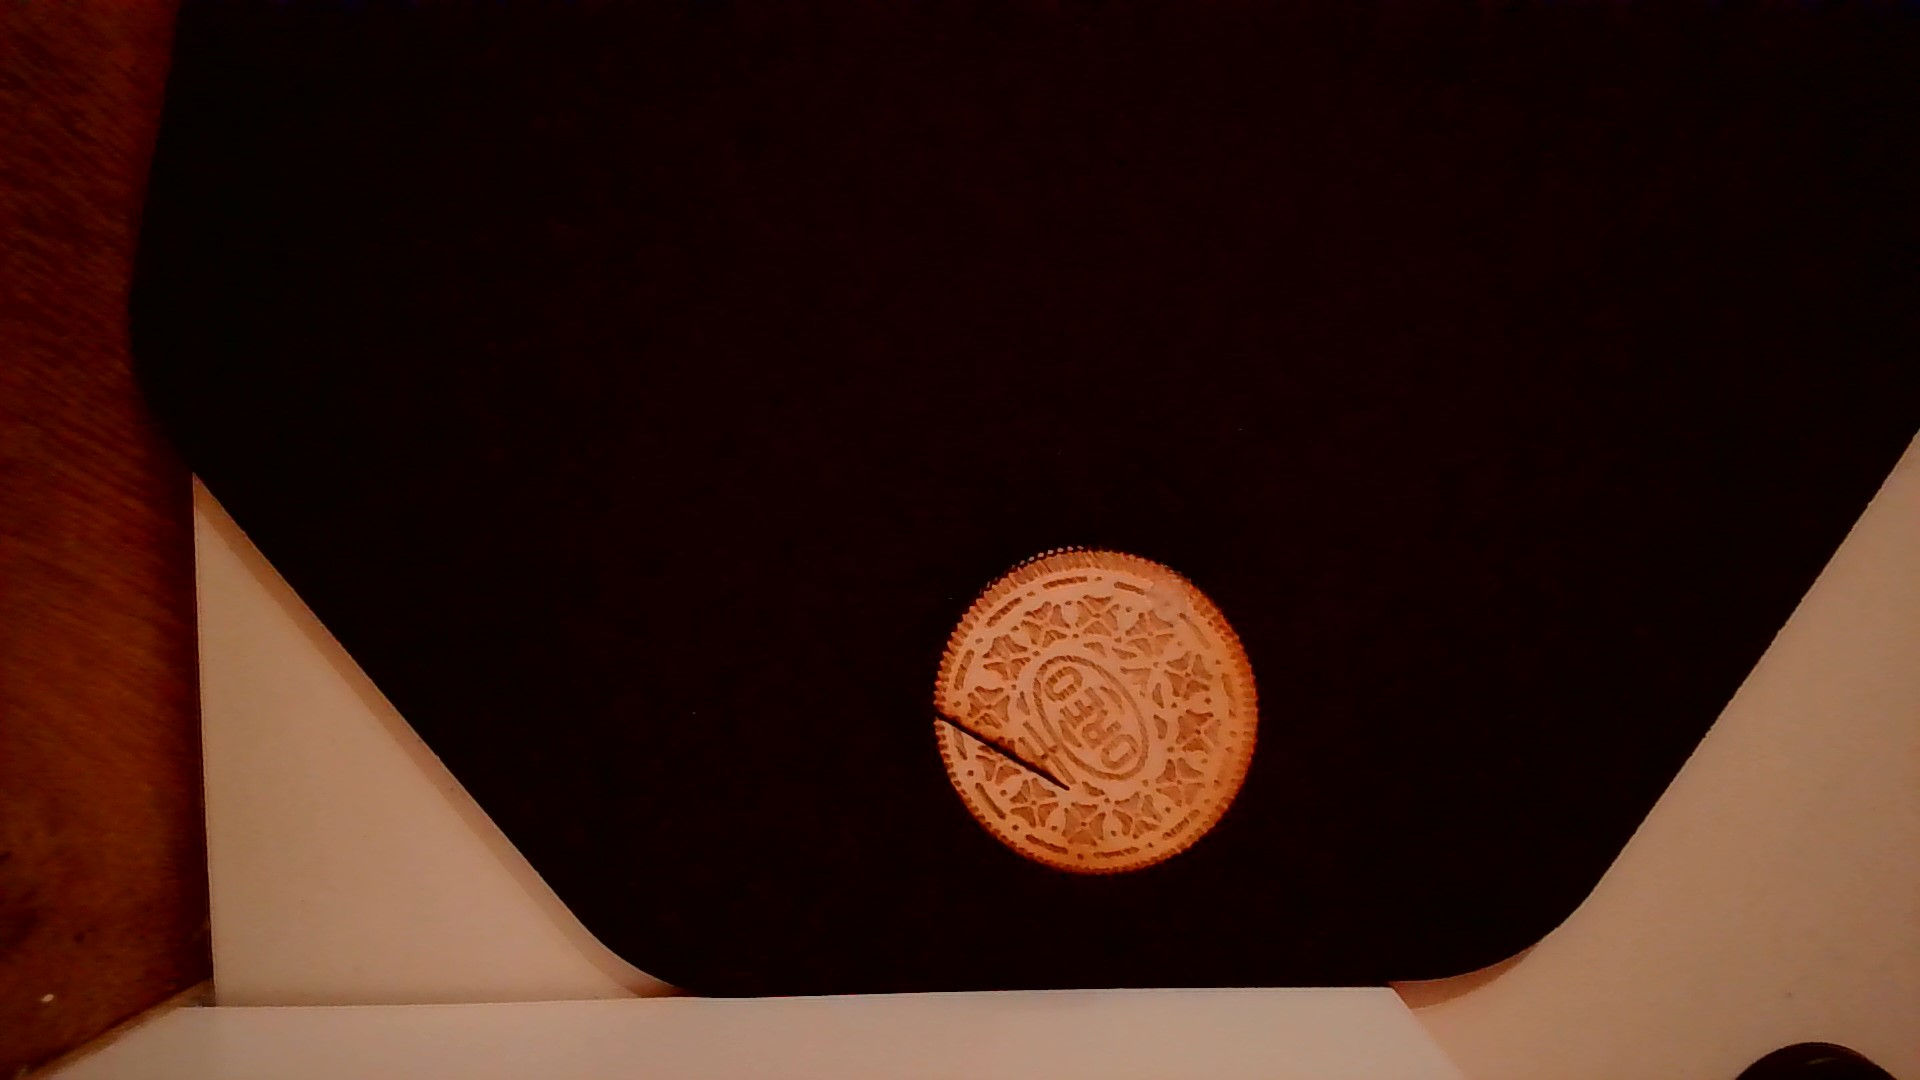Fissure: (938, 680, 1077, 802)
Oréo: (924, 541, 1269, 884)
